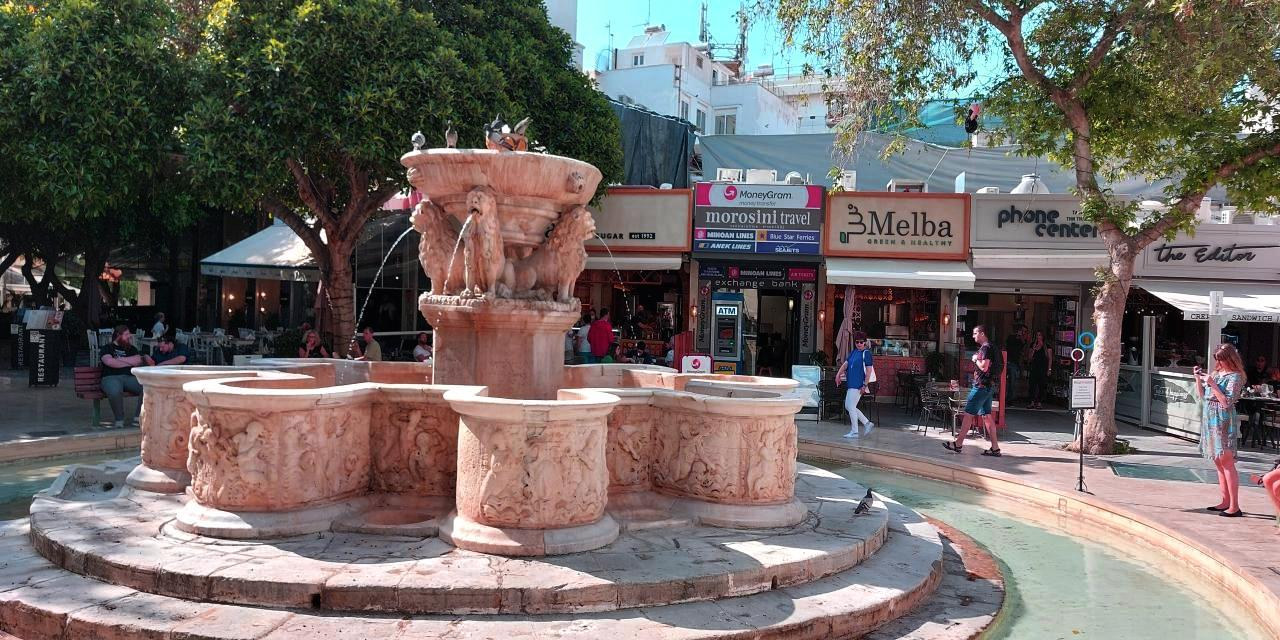Liontaria: (129, 143, 808, 557)
